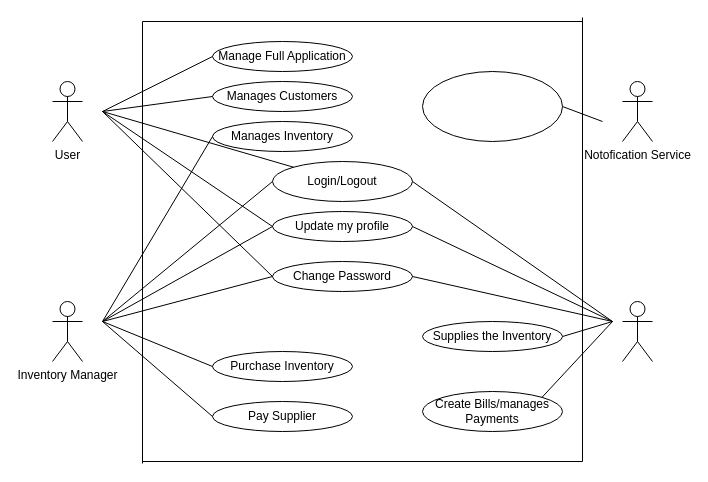
This 708x482 diagram has some shape labels left out. The centre of each missing label's shape, as x and y in pixels:
Sends Notification: (492,106)
Supplier: (637,331)
